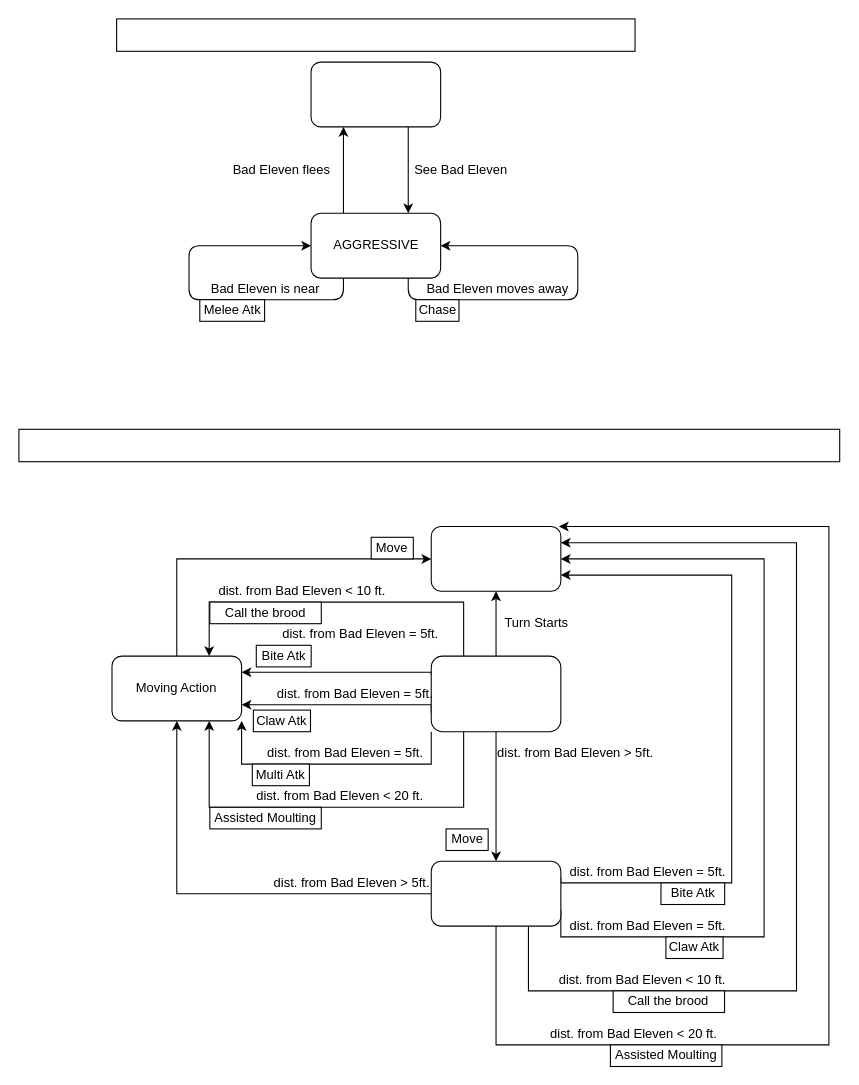
Image size: 859x1085. Some labels were removed from this diagram. The box of each missing label's shape, as (x1, y1, x2, y2) in pixels:
Action One: (430, 655, 561, 732)
Action Two: (430, 860, 561, 926)
Battle Mode: (18, 428, 840, 462)
Free Roaming: (116, 18, 635, 51)
IDLE: (310, 61, 441, 127)
Wait Turn: (430, 525, 561, 591)
